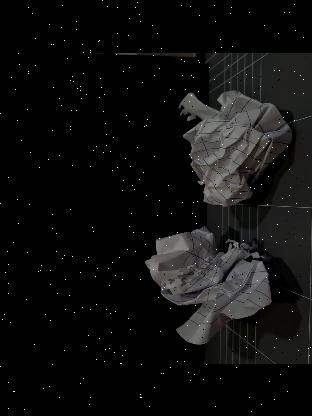Others: (171, 86, 293, 206), (148, 228, 272, 342)
